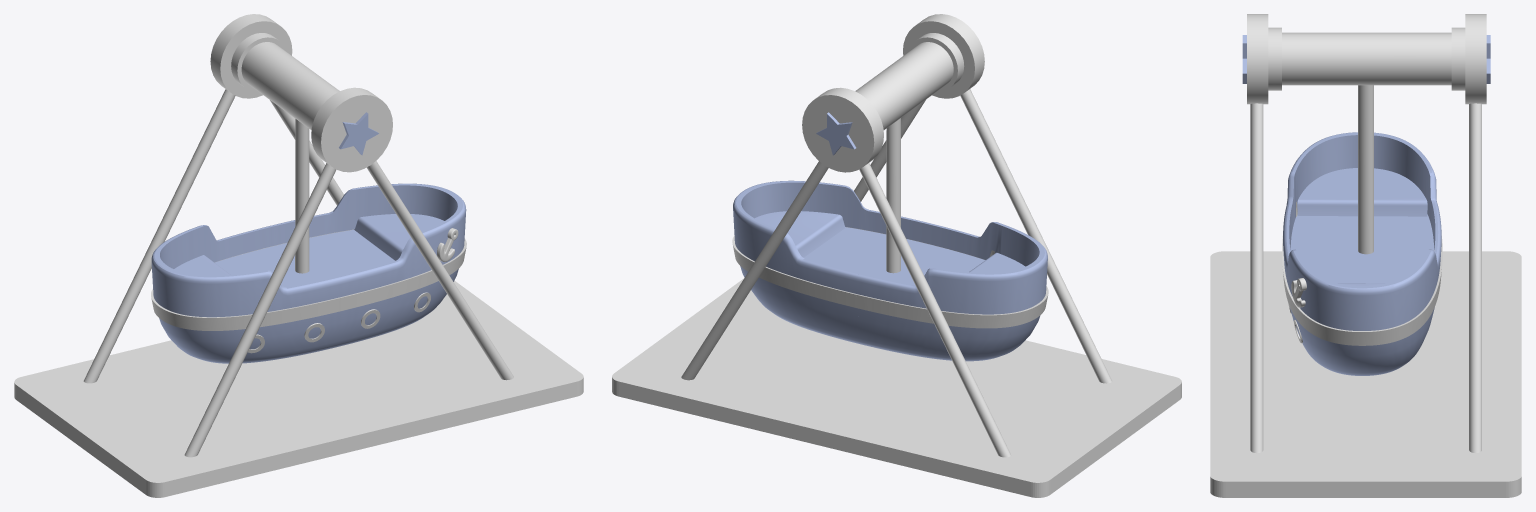
The model's file is Swing.glb.
3 renders of one model, left to right at view 1: azimuth 30°, elevation 25°; view 2: azimuth 150°, elevation 25°; view 3: azimuth 270°, elevation 25°, orthographic. The views are drawn at different scales.
Parts seen in each view (by area): view 1: Swing02, Swing01, Swing03.002, Swing03.000, Swing03.001, Swing03.003, Star02; view 2: Swing02, Swing01, Swing03.000, Swing03.002, Swing03.003, Star02, Swing03.001; view 3: Swing02, Swing01, Swing03.001, Swing03.003, Star02.
Part boxes in pixels (x1,y1,x2,y2): Swing02: (14,280,583,497); Swing01: (151,14,466,363); Swing03.002: (184,163,336,457); Swing03.000: (83,89,235,383); Swing03.001: (366,161,513,380); Swing03.003: (270,100,343,205); Star02: (339,112,378,155); Swing02: (612,278,1181,497); Swing01: (732,14,1048,361); Swing03.000: (859,163,1011,457); Swing03.002: (960,89,1112,383); Swing03.003: (681,161,828,380); Star02: (816,112,856,155); Swing03.001: (854,100,925,201); Swing02: (1210,251,1521,497); Swing01: (1247,14,1486,375); Swing03.001: (1250,103,1263,453); Swing03.003: (1469,103,1481,453); Star02: (1242,35,1490,83).
Size of the model in its own units: 2.1 by 1.56 by 1.2.
